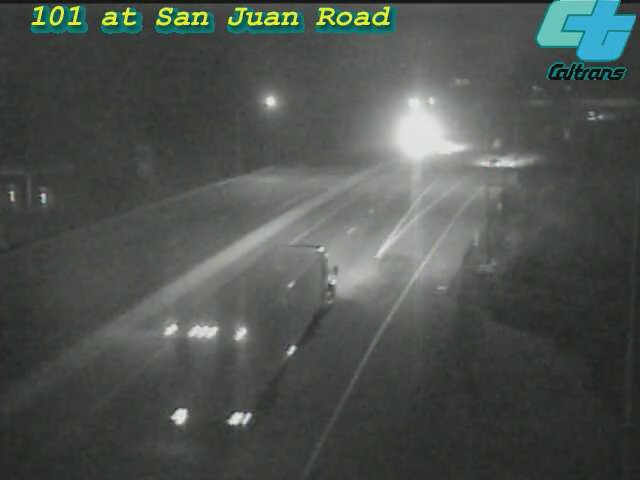vehicle: (457, 121, 537, 201), (219, 280, 299, 360), (392, 107, 442, 157), (571, 90, 621, 140), (427, 121, 477, 171)
